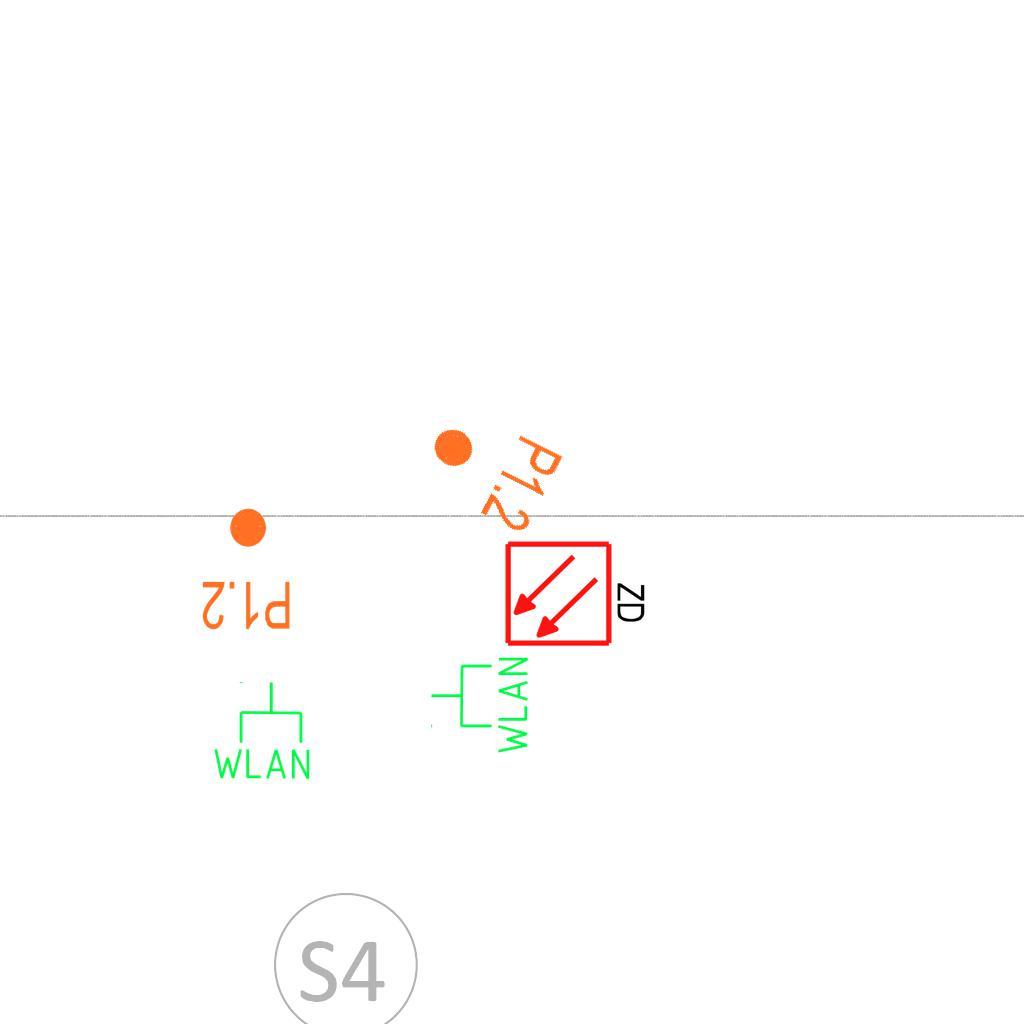Downlight_LED_Einbauleuchten_Flur: (411, 397, 568, 539), (200, 505, 293, 633)
WLAN: (209, 679, 314, 783), (428, 653, 532, 758)
ZD_Melder_in_Zwischendecke_mit_Revisionsoeffnung_mind_40_x_40_cm: (503, 535, 652, 649)
